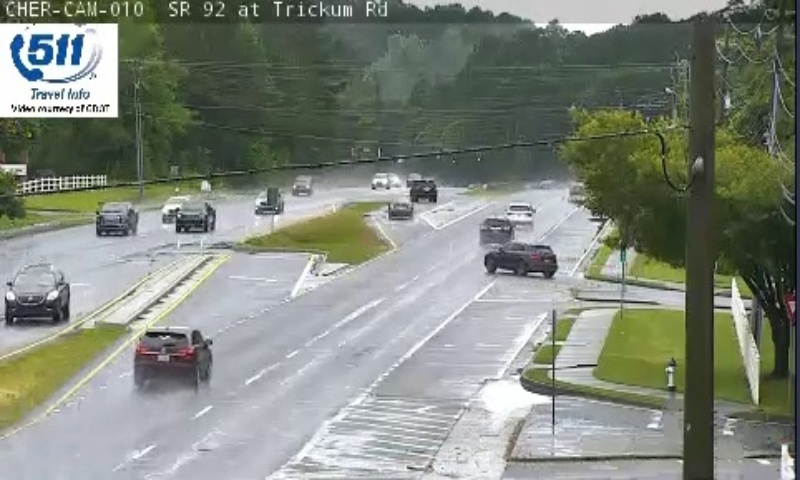car: (134, 326, 209, 378), (479, 214, 514, 247), (503, 202, 535, 227)
